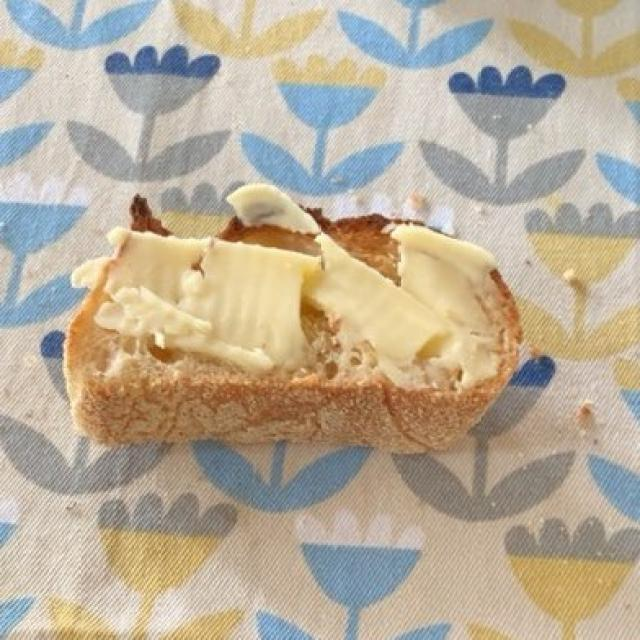bread: (69, 192, 497, 428)
butter: (111, 247, 481, 374)
